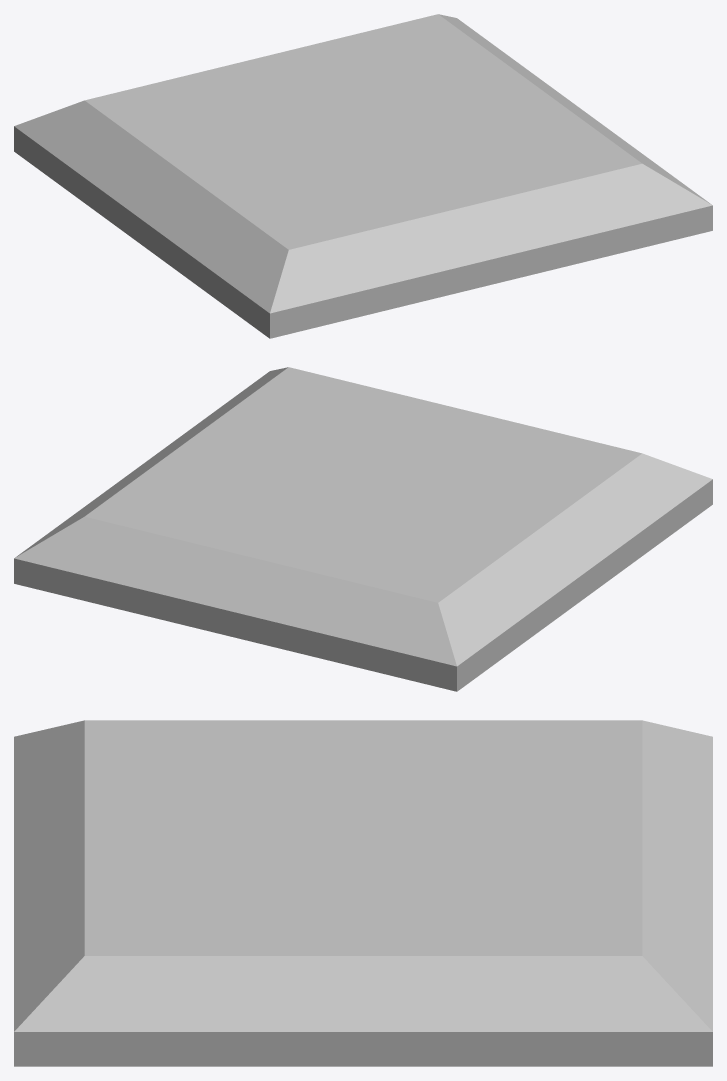
Rendered from Itr_Table5_Top_06.FBX.
3 renders of one model, top to bottom at view 1: azimuth 30°, elevation 25°; view 2: azimuth 150°, elevation 25°; view 3: azimuth 270°, elevation 25°, orthographic. The views are drawn at different scales.
Visible parts, largest first — view 1: Itr_Table5_Top_06; view 2: Itr_Table5_Top_06; view 3: Itr_Table5_Top_06.
Part boxes in pixels (x1,y1,x2,y2): Itr_Table5_Top_06: [14, 14, 712, 338]; Itr_Table5_Top_06: [14, 367, 712, 691]; Itr_Table5_Top_06: [14, 720, 712, 1066].
Bounding box in the file's own units: 40.13 × 5.12 × 40.15.
